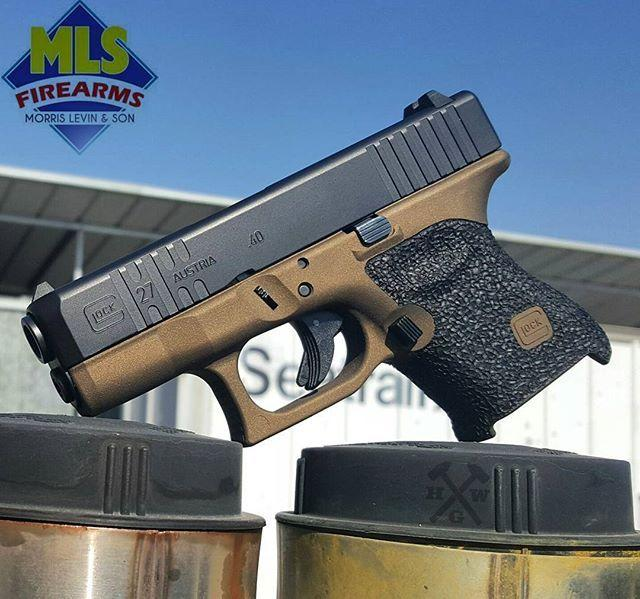handgun: (14, 81, 616, 451)
